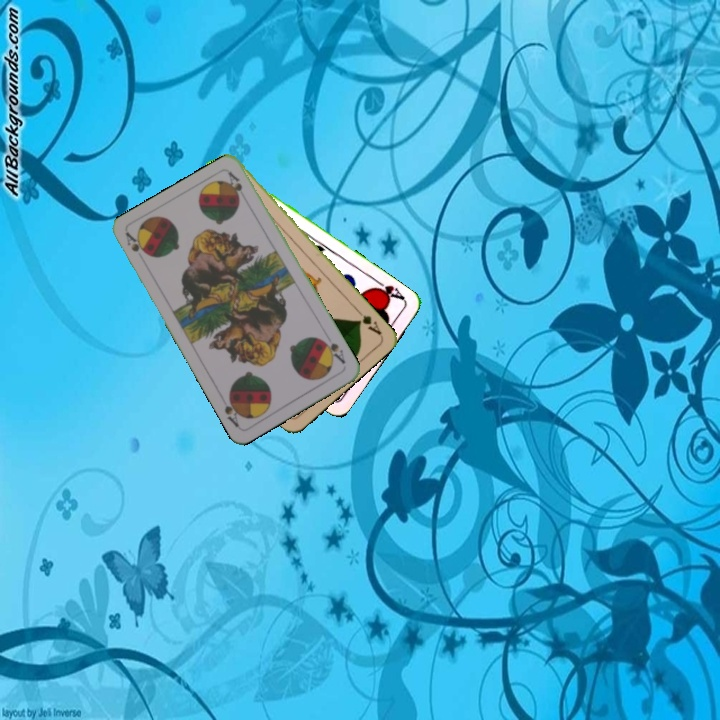GA: (352, 305, 384, 338)
HA: (368, 276, 407, 304)
SA: (317, 335, 348, 367), (122, 229, 151, 259)
